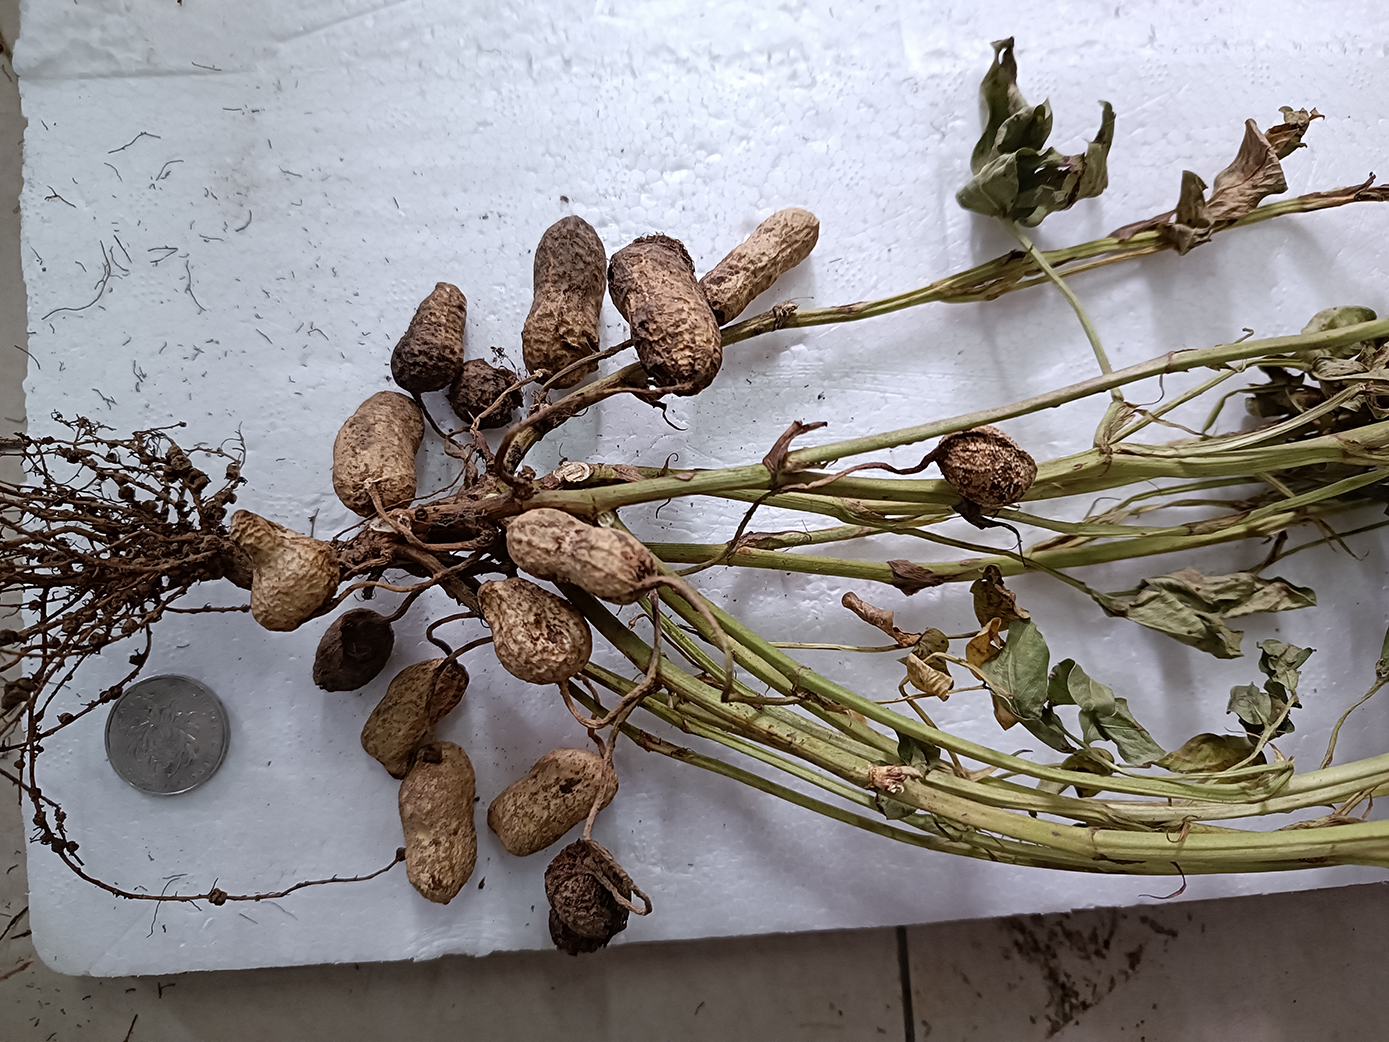h: (503, 506, 655, 607), (486, 746, 620, 858), (702, 208, 820, 328), (230, 508, 342, 634), (398, 743, 479, 905), (361, 658, 468, 779), (477, 577, 593, 686), (332, 389, 424, 521), (937, 424, 1039, 508)
l: (607, 234, 722, 396), (520, 215, 607, 390), (544, 840, 634, 957), (390, 281, 467, 392), (311, 607, 394, 692), (450, 358, 521, 428)
